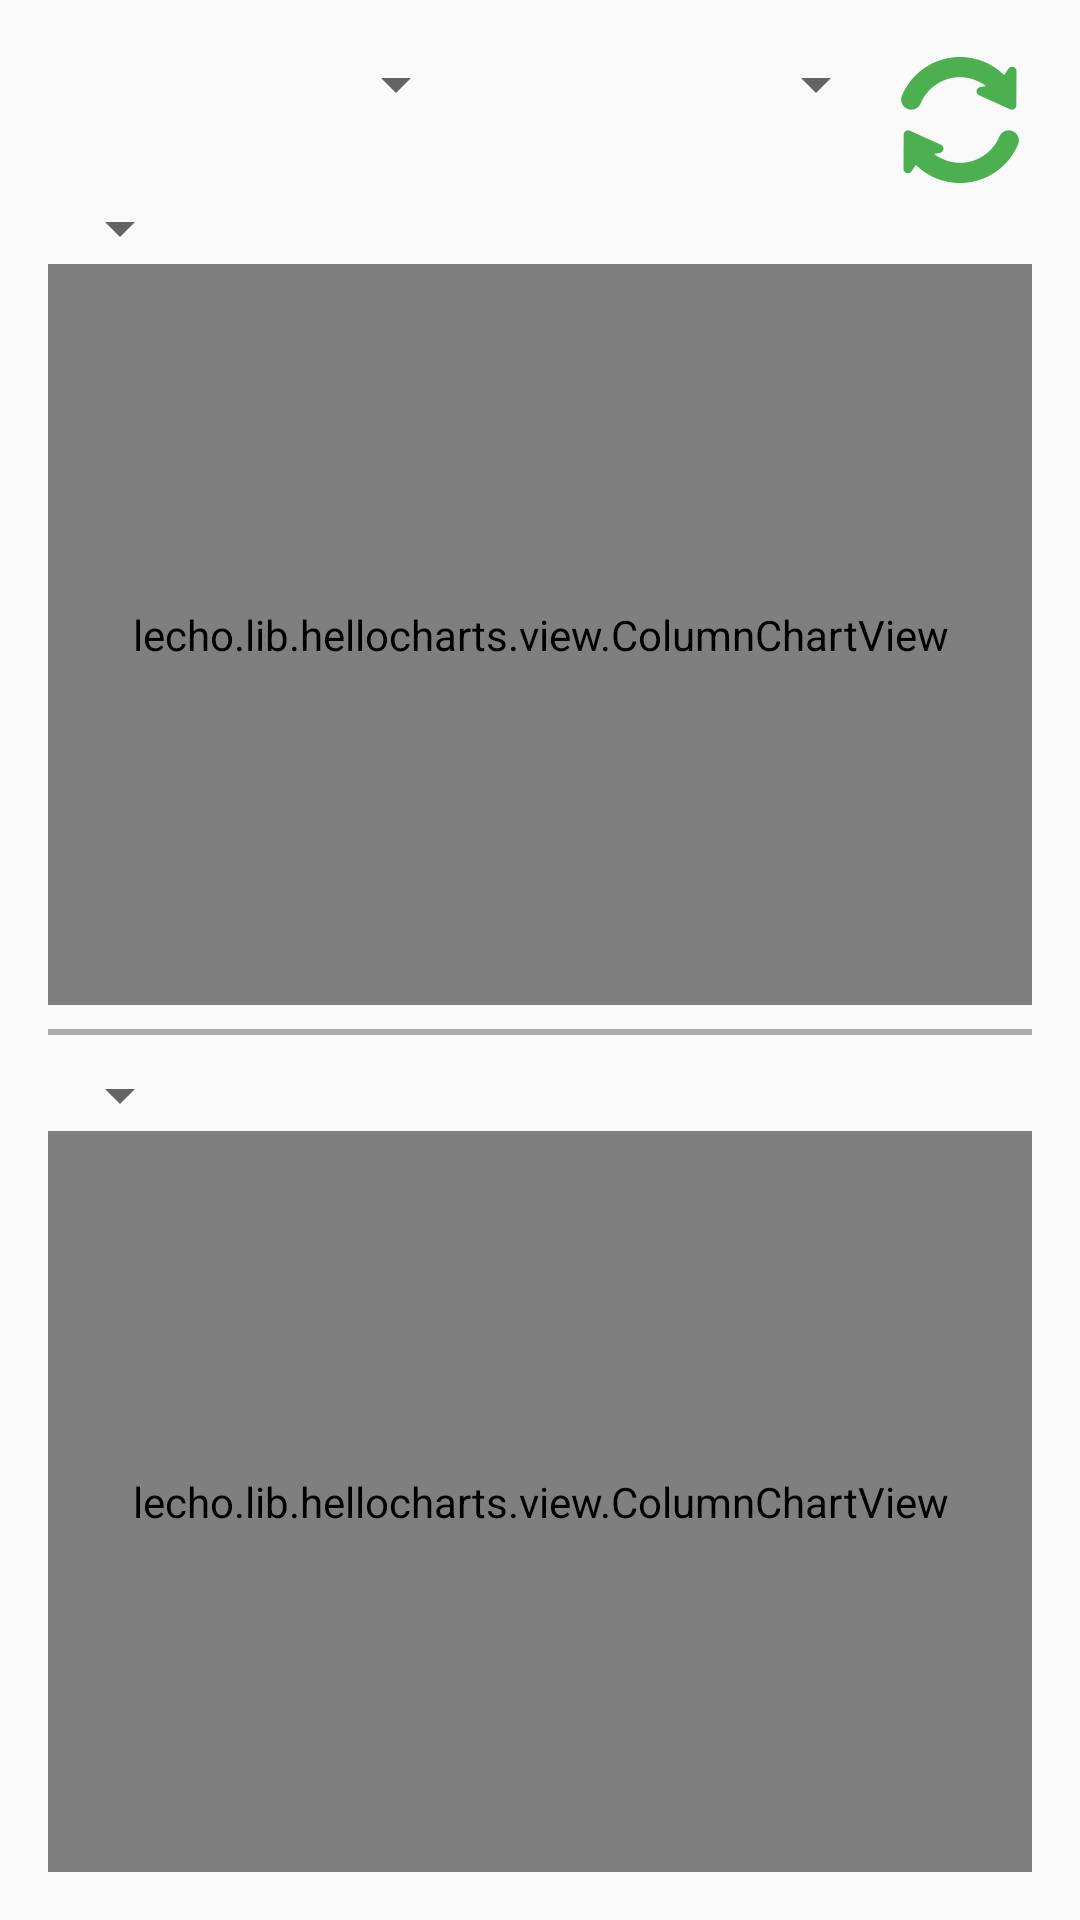

Screen size 1080px×1920px. Icon name, then its box in pixels as rect(x1, y1, x2, y2):
refresh: rect(901, 57, 1019, 183)
